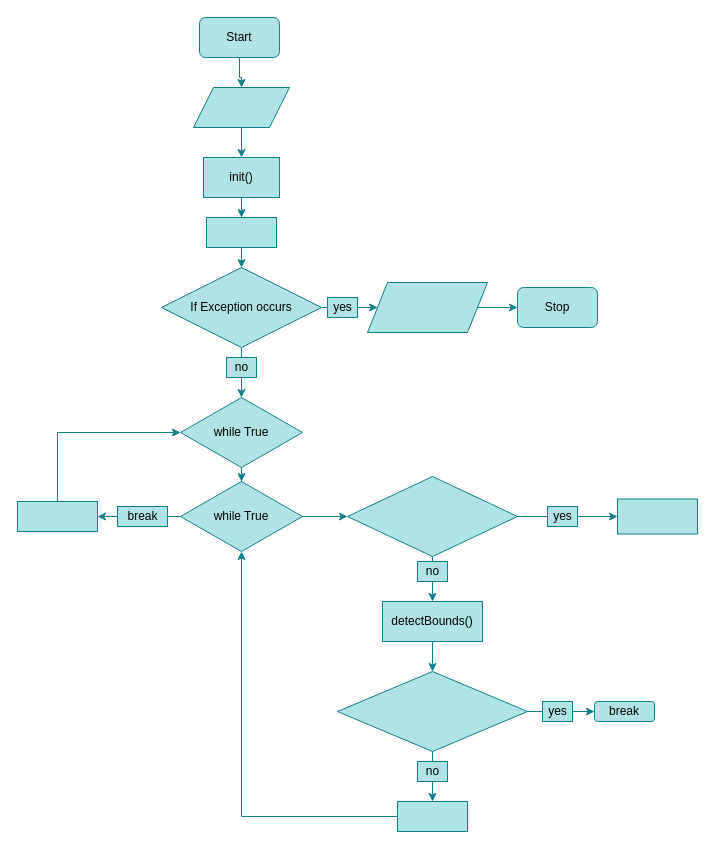
The diagram is 715 pixels wide and 849 high, and some of its shapes have lost their labels. Here are the shapes that lost their labels. From the top down, the centre of each, then its label:
the point at 241,107: import
the point at 241,232: try except
the point at 427,307: raise Exception
the point at 57,516: reset()
the point at 432,516: if "esc" in keysdown()
the point at 657,516: pause()
the point at 432,711: if detectColission() or changeLevel()
the point at 432,816: move()
